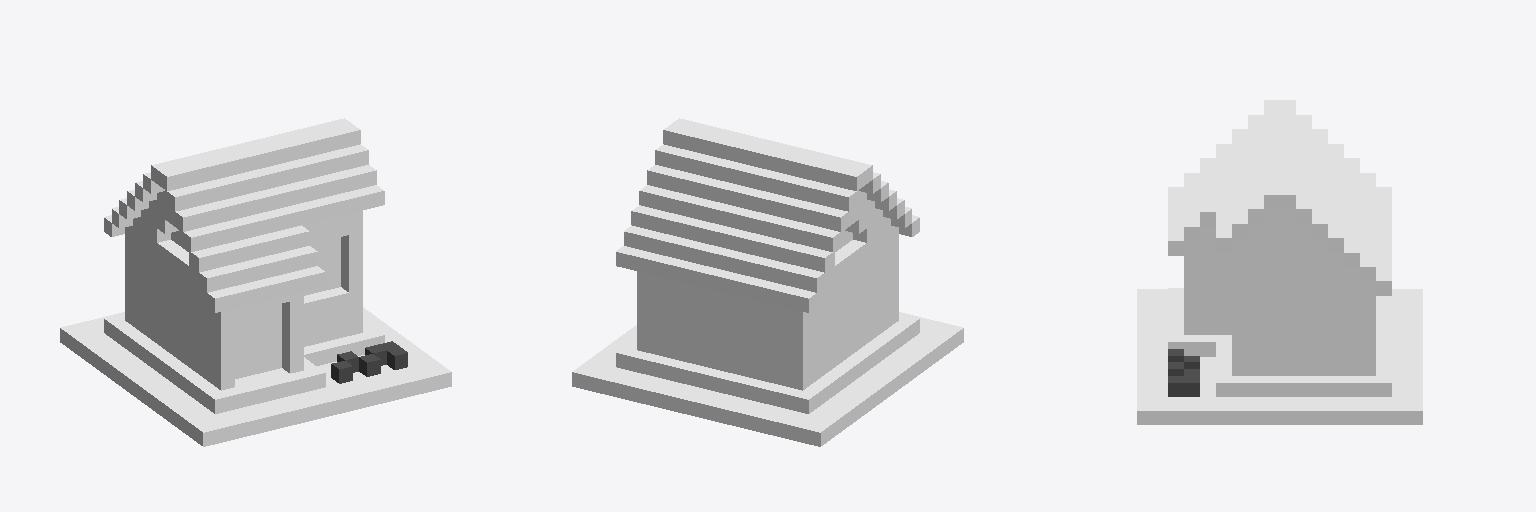
The picture shows the model from 3 angles: view 1: azimuth 30°, elevation 25°; view 2: azimuth 150°, elevation 25°; view 3: azimuth 270°, elevation 25°; orthographic projection.
Parts seen in each view (by area): view 1: 12; view 2: 12; view 3: 12.
Boxes of the visible parts, <box> form: 12: <box>60,118,451,446</box>; 12: <box>572,118,963,446</box>; 12: <box>1137,100,1422,424</box>.
Bounding box in the file's own units: 18 × 15 × 18.
1 materials, 1 textured.